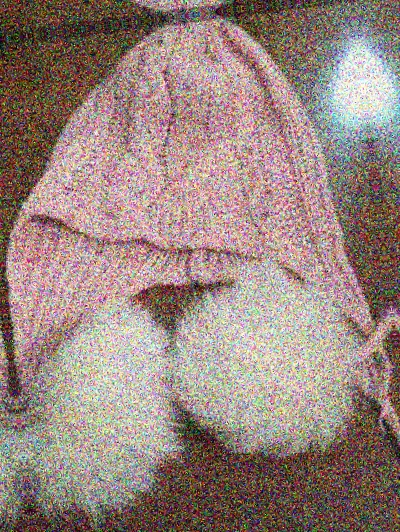Hat: (0, 0, 400, 526), (354, 0, 400, 478), (0, 0, 349, 41), (0, 45, 23, 532)
